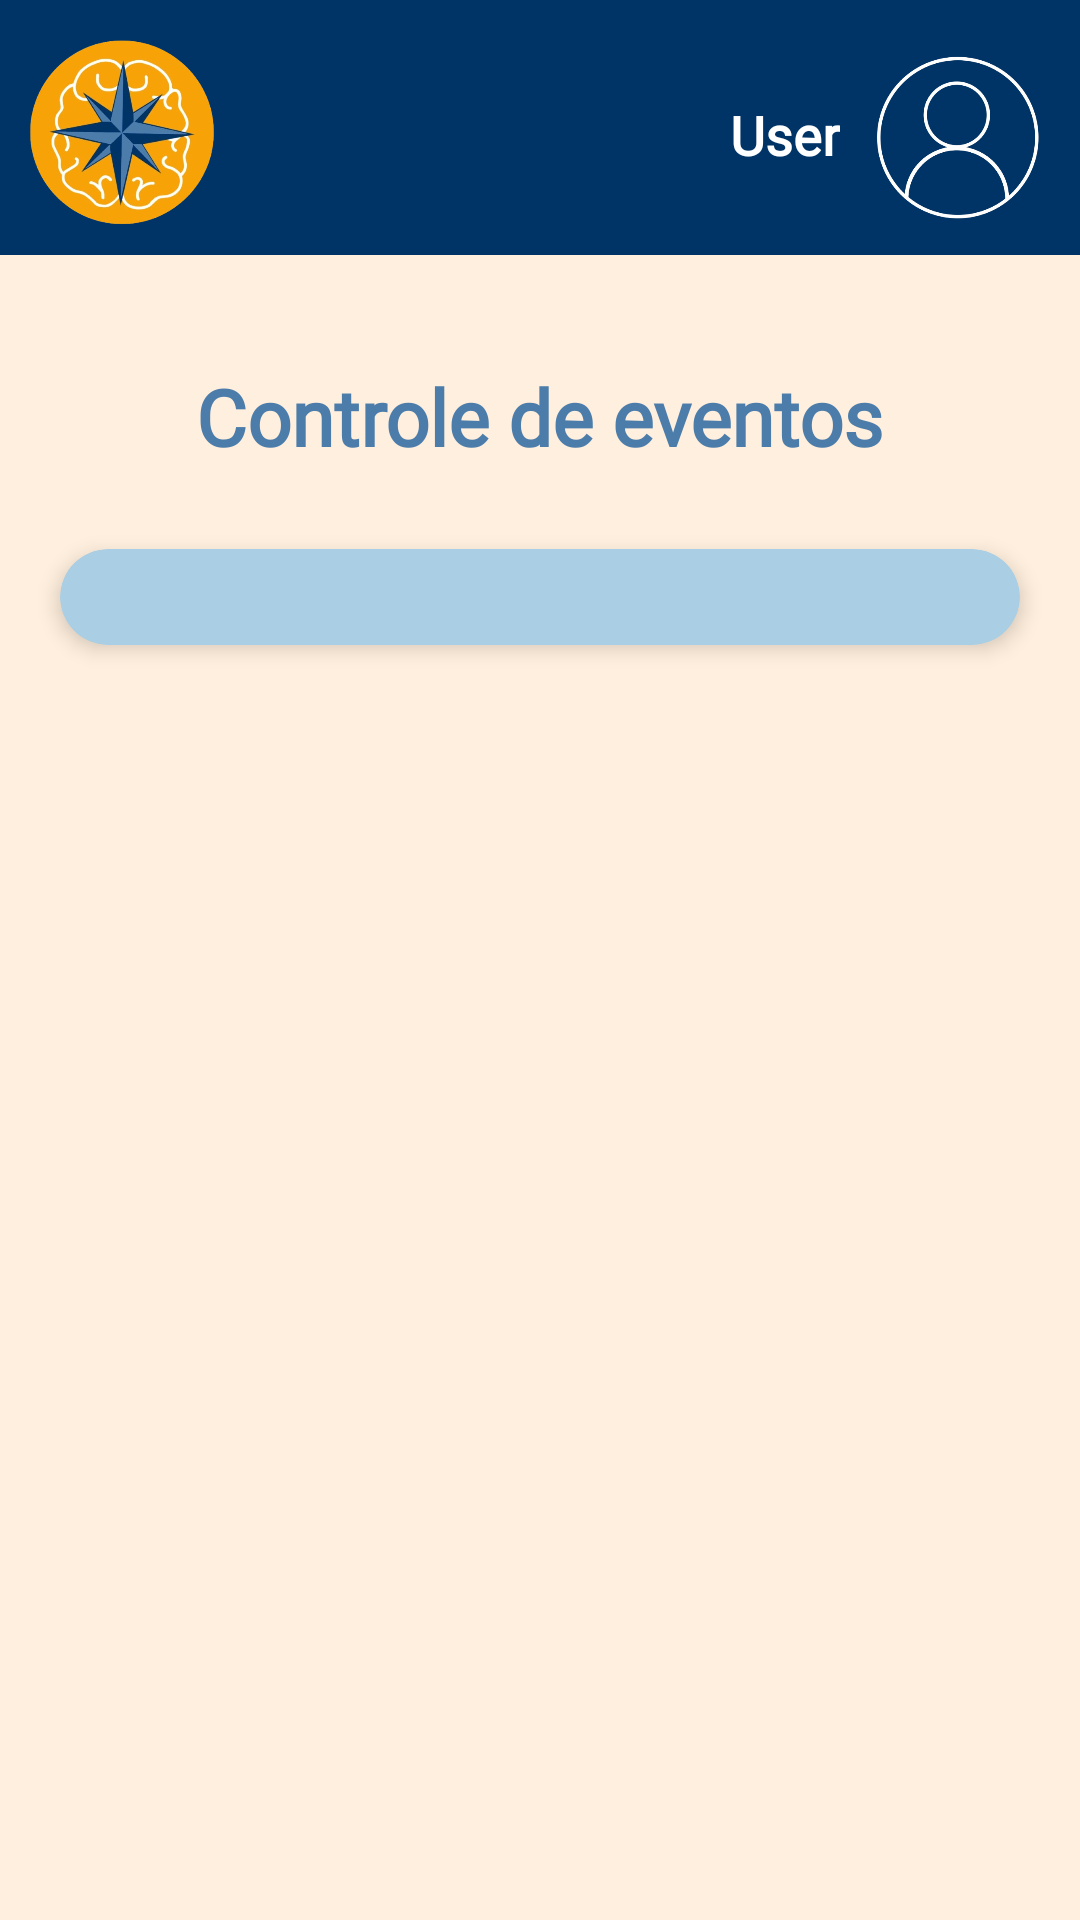

Named icons in this screenshot (1080px x 1920px) and their centers, [x,y]:
perfil: [958,138]
